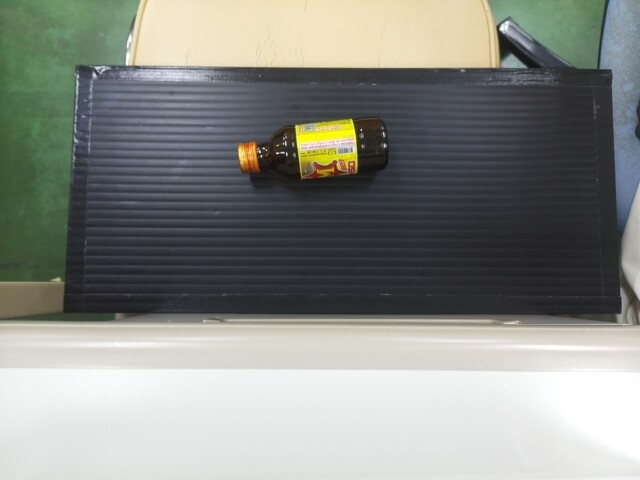glass_bottle: (235, 120, 389, 174)
